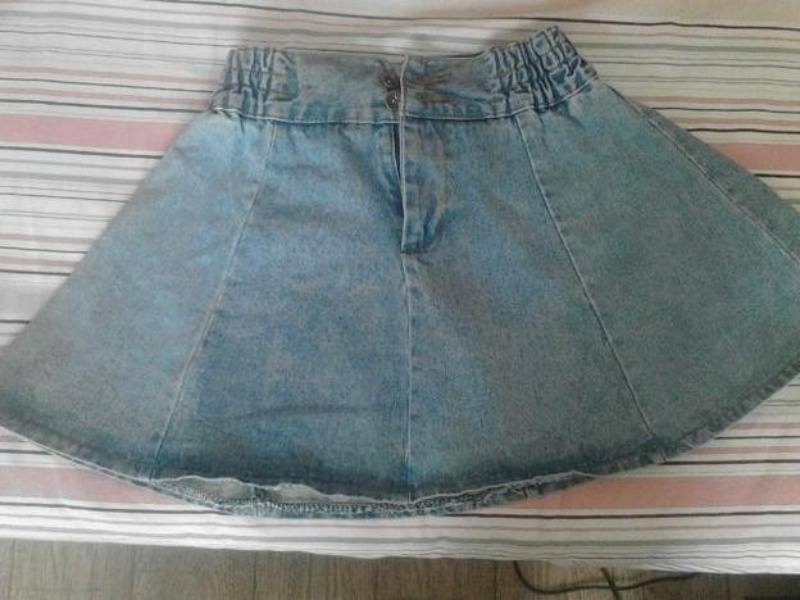skirt: (1, 23, 799, 522)
